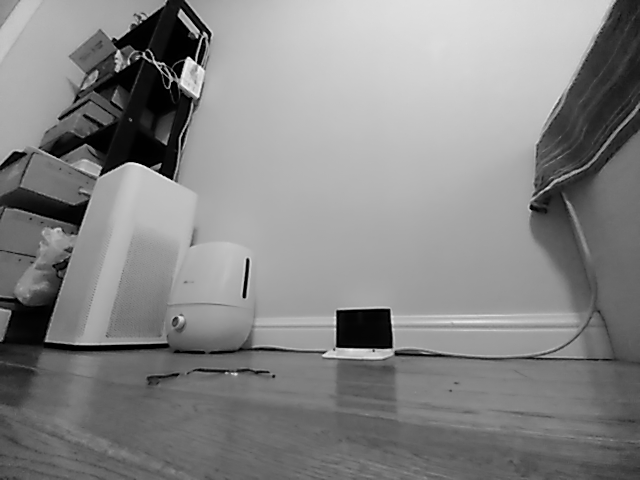TanosV: (321, 308, 395, 361)
wire: (393, 272, 602, 360)
